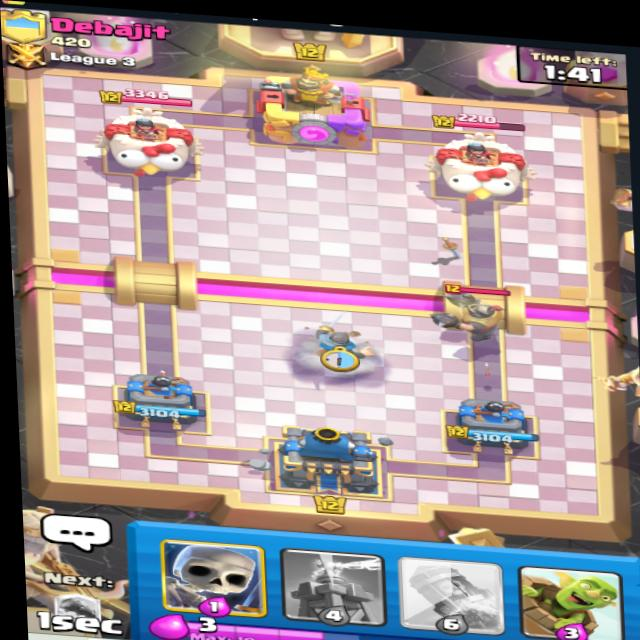mega-knight: (423, 268, 529, 342)
